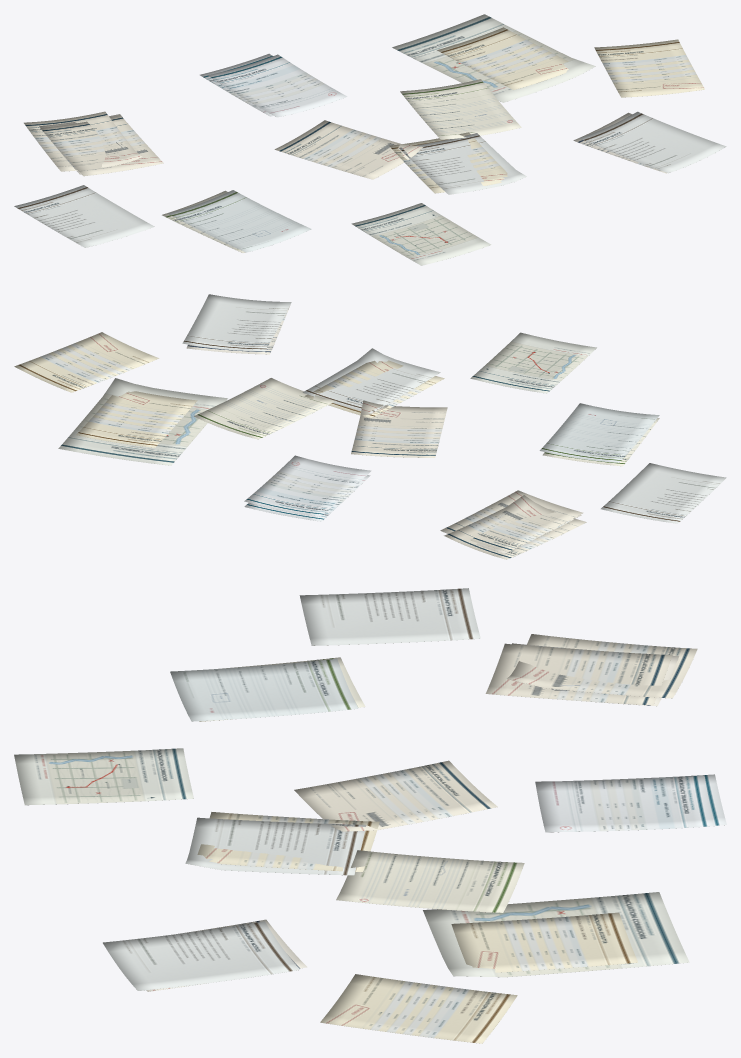
3 renders of one model, top to bottom at view 1: azimuth 30°, elevation 25°; view 2: azimuth 150°, elevation 25°; view 3: azimuth 270°, elevation 25°, orthographic. The views are drawn at different scales.
Parts seen in each view (by area): view 1: VIS_PaperSheets_Curved_Thickness; view 2: VIS_PaperSheets_Curved_Thickness; view 3: VIS_PaperSheets_Curved_Thickness.
Part boxes in pixels (left/top/right/bottom): VIS_PaperSheets_Curved_Thickness: left=14, top=14, right=726, bottom=265; VIS_PaperSheets_Curved_Thickness: left=14, top=294, right=726, bottom=559; VIS_PaperSheets_Curved_Thickness: left=14, top=588, right=726, bottom=1043.
Bounding box in the file's own units: 1.88 × 0.0171 × 1.25.
Materials: 2 (1 with a texture image).
